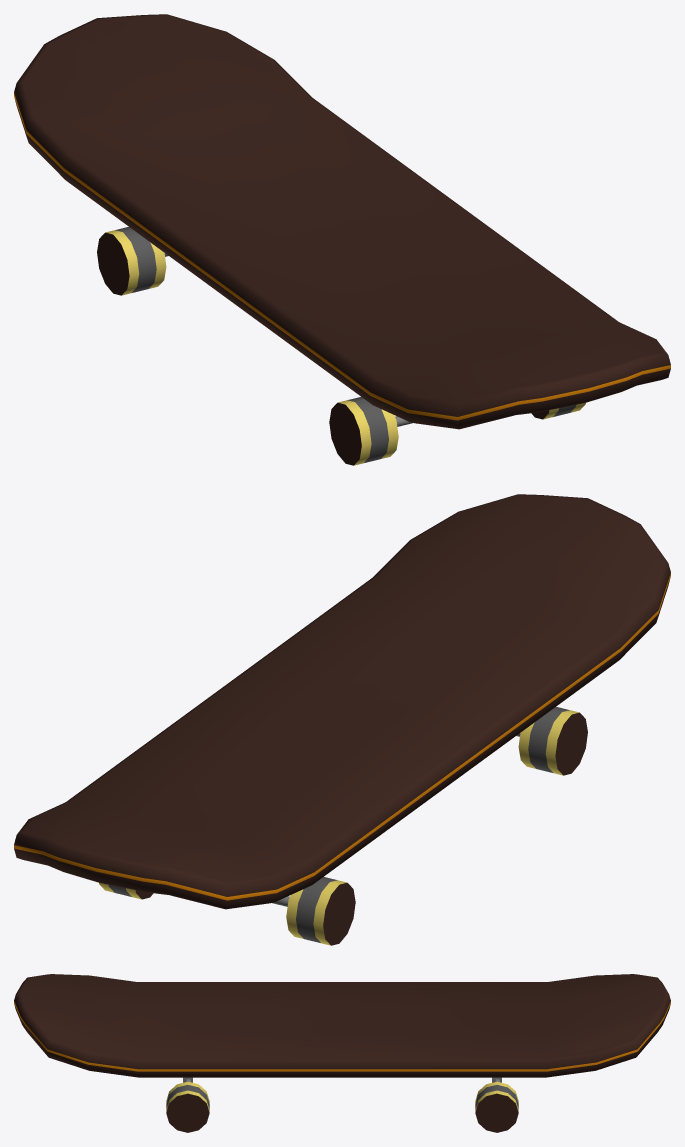
File: _aykay.fbx
The picture shows the model from 3 angles, top to bottom: view 1: azimuth 30°, elevation 25°; view 2: azimuth 150°, elevation 25°; view 3: azimuth 270°, elevation 25°; orthographic projection. The views are drawn at different scales.
Visible parts, largest first — view 1: Kaykay; view 2: Kaykay; view 3: Kaykay.
Boxes of the visible parts, box(x1,y1,x2,y2) form: Kaykay: box(14, 14, 670, 465); Kaykay: box(14, 494, 670, 945); Kaykay: box(14, 974, 670, 1132).
Size of the model in its own units: 38.94 by 22.94 by 133.
